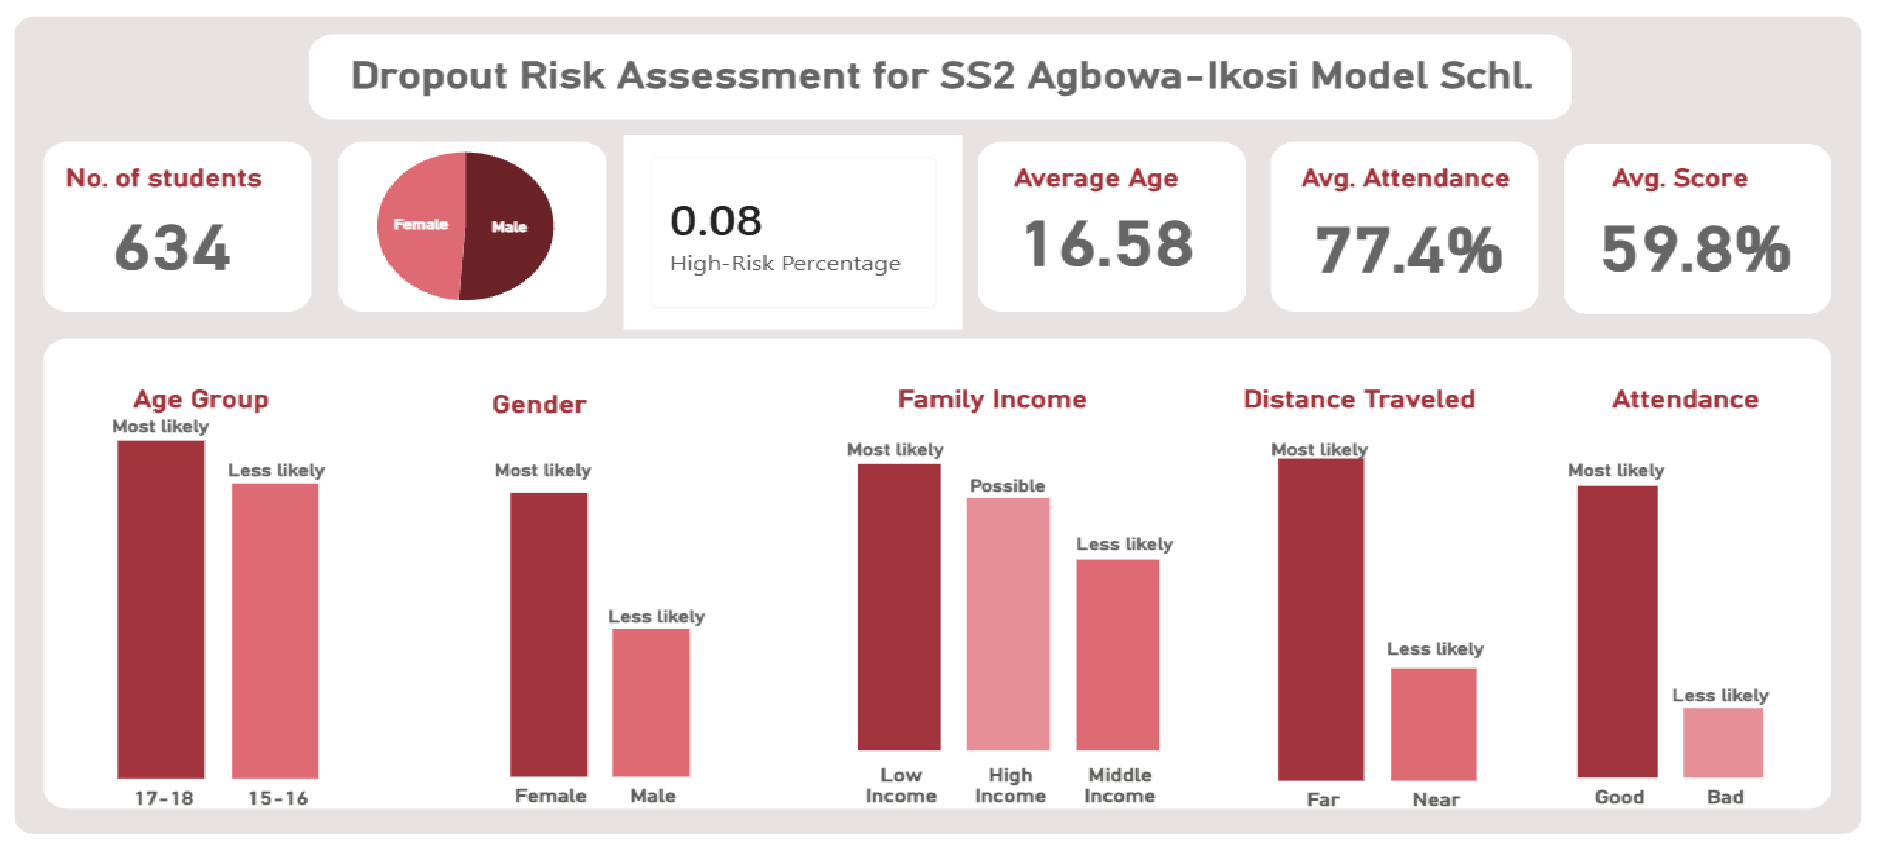

Layout of this report page (visuals, bound fields, positions):
{"tool":"powerbi","page":{"name":"Page 1","canvas":[1280,720],"ordinal":0},"visuals":[{"type":"card","fields":{"Values":["CountNonNull(Table1.Student Number)"]},"box":[77.2,168.1,123.6,87.3],"z":0},{"type":"pieChart","fields":{"Category":["Table1.Gender"],"Y":["CountNonNull(Table1.Student Number)"]},"box":[201.8,120,259.1,163.6],"z":1000},{"type":"card","fields":{"Values":["Avg(Table1.Age)"]},"box":[685,167.5,130,82.5],"z":2000},{"type":"card","fields":{"Values":["Avg(Table1.Overall Performance)"]},"box":[1065,181,138.6,62.9],"z":3000},{"type":"card","fields":{"Values":["Avg(Table1.Overall Attendance)"]},"box":[878.6,177.1,137.1,74.3],"z":4000},{"type":"columnChart","fields":{"Category":["Table1.Age Group"],"Y":["Sum(Table1.Dropout Risk Potential)"]},"box":[31.8,321,278.6,341.4],"z":5000},{"type":"columnChart","fields":{"Category":["Table1.Gender"],"Y":["Sum(Table1.Dropout Risk Potential)"]},"box":[295.7,322.9,250,338.6],"z":6000},{"type":"columnChart","fields":{"Category":["Table1.Income Class"],"Y":["Min(Table1.Dropout Risk Potential)"]},"box":[543.6,305.9,277.1,355.7],"z":7000},{"type":"columnChart","fields":{"Category":["Table1.Distance"],"Y":["Avg(Table1.Dropout Risk Potential)"]},"box":[790,352.9,275.7,311.4],"z":8000},{"type":"columnChart","fields":{"Category":["Table1.Attendance"],"Y":["Sum(Table1.Dropout Risk Potential)"]},"box":[990.3,334.6,258.6,327.1],"z":9000},{"type":"textbox","box":[65.5,147.3,150,34.5],"z":10000},{"type":"textbox","box":[684.3,147.1,151.4,34.3],"z":11000},{"type":"textbox","box":[871.4,147.1,150,34.3],"z":12000},{"type":"textbox","box":[1075.7,147.1,150,34.3],"z":13000},{"type":"textbox","box":[95.7,342.9,150,34.3],"z":14000},{"type":"textbox","box":[171.4,377.1,150,34.3],"z":15000},{"type":"textbox","box":[345.7,377.1,150,34.3],"z":16000},{"type":"textbox","box":[575.7,360,150,34.3],"z":17000},{"type":"textbox","box":[852.9,360,150,34.3],"z":18000},{"type":"textbox","box":[1045.7,377.1,150,34.3],"z":19000},{"type":"textbox","box":[420,490,150,34.3],"z":20000},{"type":"textbox","box":[725.7,434.3,150,34.3],"z":21000},{"type":"textbox","box":[928.6,515.7,150,34.3],"z":22000},{"type":"textbox","box":[1114.3,552.9,150,34.3],"z":23000},{"type":"textbox","box":[655.7,388.6,150,34.3],"z":24000},{"type":"textbox","box":[251.4,61.4,787.1,47.1],"z":25000},{"type":"textbox","box":[108.6,320,150,34.3],"z":26000},{"type":"textbox","box":[344.3,324.3,150,34.3],"z":27000},{"type":"textbox","box":[608.6,320,150,34.3],"z":28000},{"type":"textbox","box":[834.3,320,187.1,34.3],"z":29000},{"type":"textbox","box":[1075.7,320,187.1,34.3],"z":30000},{"type":"cardVisual","fields":{"Data":["Table1.High-Risk Percentage"]},"box":[435.2,131,221.5,152.1],"z":32000}]}

Visuals, with their boxes on the page's 1280x720 design canvas (x1, y1, x2, y2). These are canvas units, not pixel positions in the 1879x859 screenshot, which may show the page scaled, cropped or inside an application window:
card - CountNonNull(Table1.Student Number): pyautogui.locateOnScreen(77, 168, 201, 255)
pieChart - Table1.Gender x CountNonNull(Table1.Student Number): pyautogui.locateOnScreen(202, 120, 461, 284)
card - Avg(Table1.Age): pyautogui.locateOnScreen(685, 168, 815, 250)
card - Avg(Table1.Overall Performance): pyautogui.locateOnScreen(1065, 181, 1204, 244)
card - Avg(Table1.Overall Attendance): pyautogui.locateOnScreen(879, 177, 1016, 251)
columnChart - Table1.Age Group x Sum(Table1.Dropout Risk Potential): pyautogui.locateOnScreen(32, 321, 310, 662)
columnChart - Table1.Gender x Sum(Table1.Dropout Risk Potential): pyautogui.locateOnScreen(296, 323, 546, 662)
columnChart - Table1.Income Class x Min(Table1.Dropout Risk Potential): pyautogui.locateOnScreen(544, 306, 821, 662)
columnChart - Table1.Distance x Avg(Table1.Dropout Risk Potential): pyautogui.locateOnScreen(790, 353, 1066, 664)
columnChart - Table1.Attendance x Sum(Table1.Dropout Risk Potential): pyautogui.locateOnScreen(990, 335, 1249, 662)
textbox: pyautogui.locateOnScreen(66, 147, 216, 182)
textbox: pyautogui.locateOnScreen(684, 147, 836, 181)
textbox: pyautogui.locateOnScreen(871, 147, 1021, 181)
textbox: pyautogui.locateOnScreen(1076, 147, 1226, 181)
textbox: pyautogui.locateOnScreen(96, 343, 246, 377)
textbox: pyautogui.locateOnScreen(171, 377, 321, 411)
textbox: pyautogui.locateOnScreen(346, 377, 496, 411)
textbox: pyautogui.locateOnScreen(576, 360, 726, 394)
textbox: pyautogui.locateOnScreen(853, 360, 1003, 394)
textbox: pyautogui.locateOnScreen(1046, 377, 1196, 411)
textbox: pyautogui.locateOnScreen(420, 490, 570, 524)
textbox: pyautogui.locateOnScreen(726, 434, 876, 469)
textbox: pyautogui.locateOnScreen(929, 516, 1079, 550)
textbox: pyautogui.locateOnScreen(1114, 553, 1264, 587)
textbox: pyautogui.locateOnScreen(656, 389, 806, 423)
textbox: pyautogui.locateOnScreen(251, 61, 1038, 108)
textbox: pyautogui.locateOnScreen(109, 320, 259, 354)
textbox: pyautogui.locateOnScreen(344, 324, 494, 359)
textbox: pyautogui.locateOnScreen(609, 320, 759, 354)
textbox: pyautogui.locateOnScreen(834, 320, 1021, 354)
textbox: pyautogui.locateOnScreen(1076, 320, 1263, 354)
cardVisual - Table1.High-Risk Percentage: pyautogui.locateOnScreen(435, 131, 657, 283)
